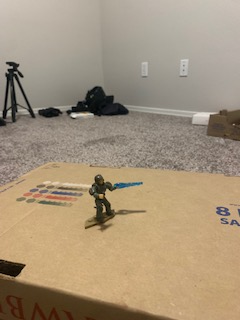soldier: (88, 173, 146, 226)
